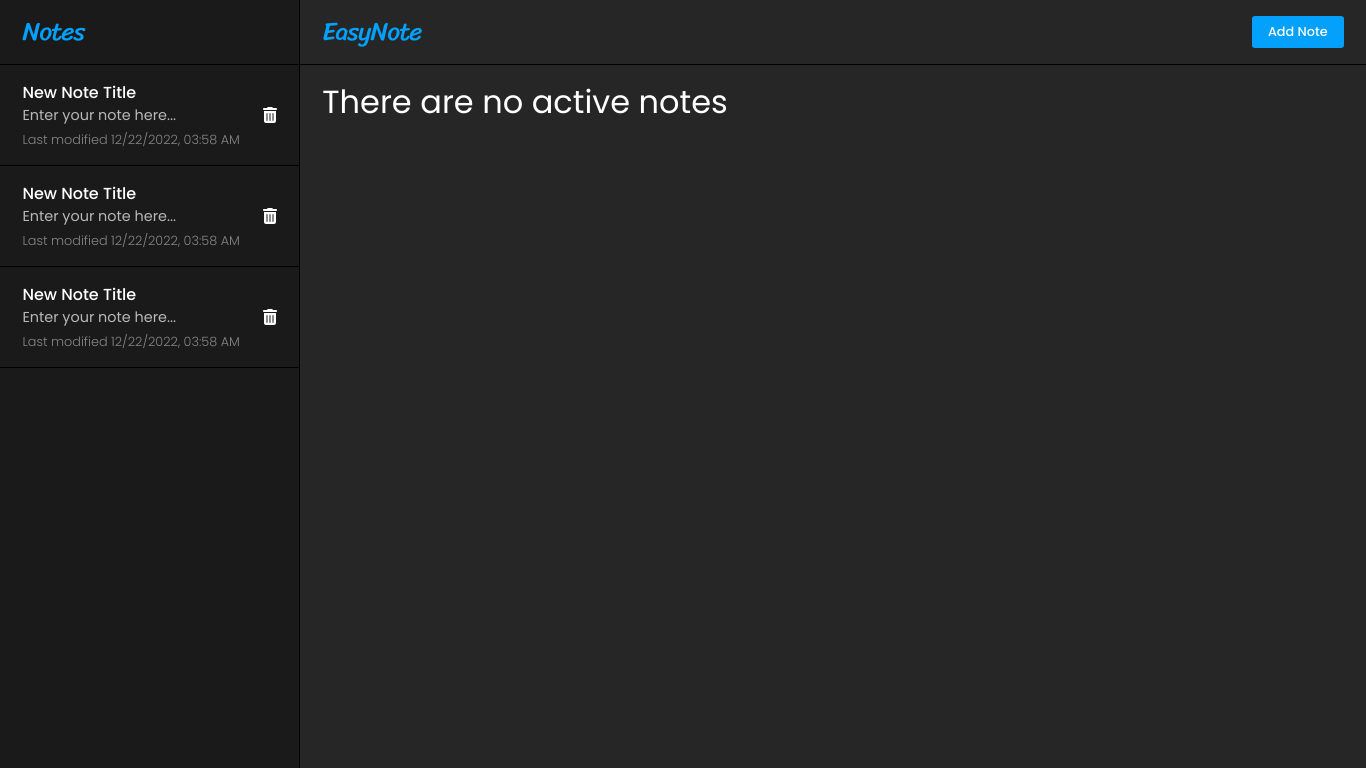
Test: truncate › should truncate title of note in sidebar
This screenshot has width=1366, height=768.
Click the button "Add Note" at coordinates (1298, 32), box [1252,16,1344,48]
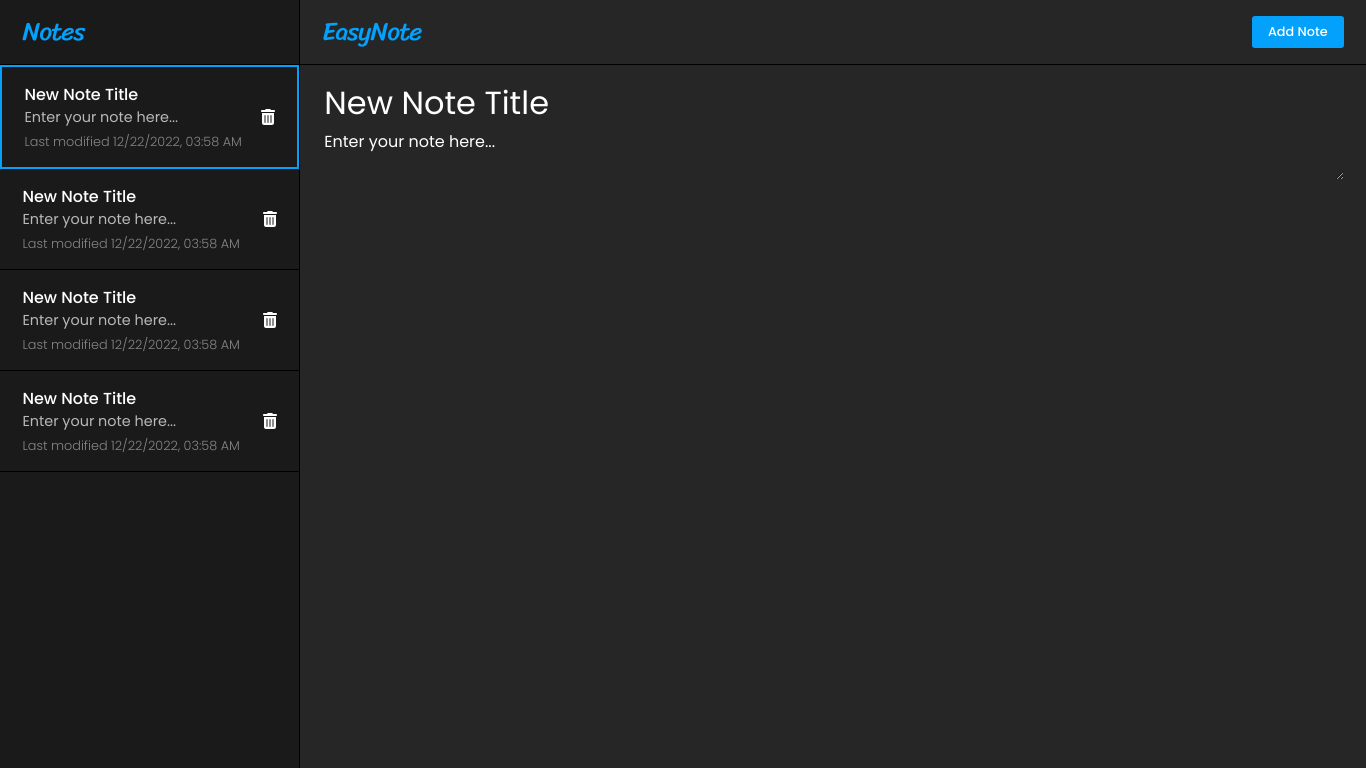
Replace the text in the field with "List of things to do Today" at coordinates (833, 103), box [322,78,1344,128]
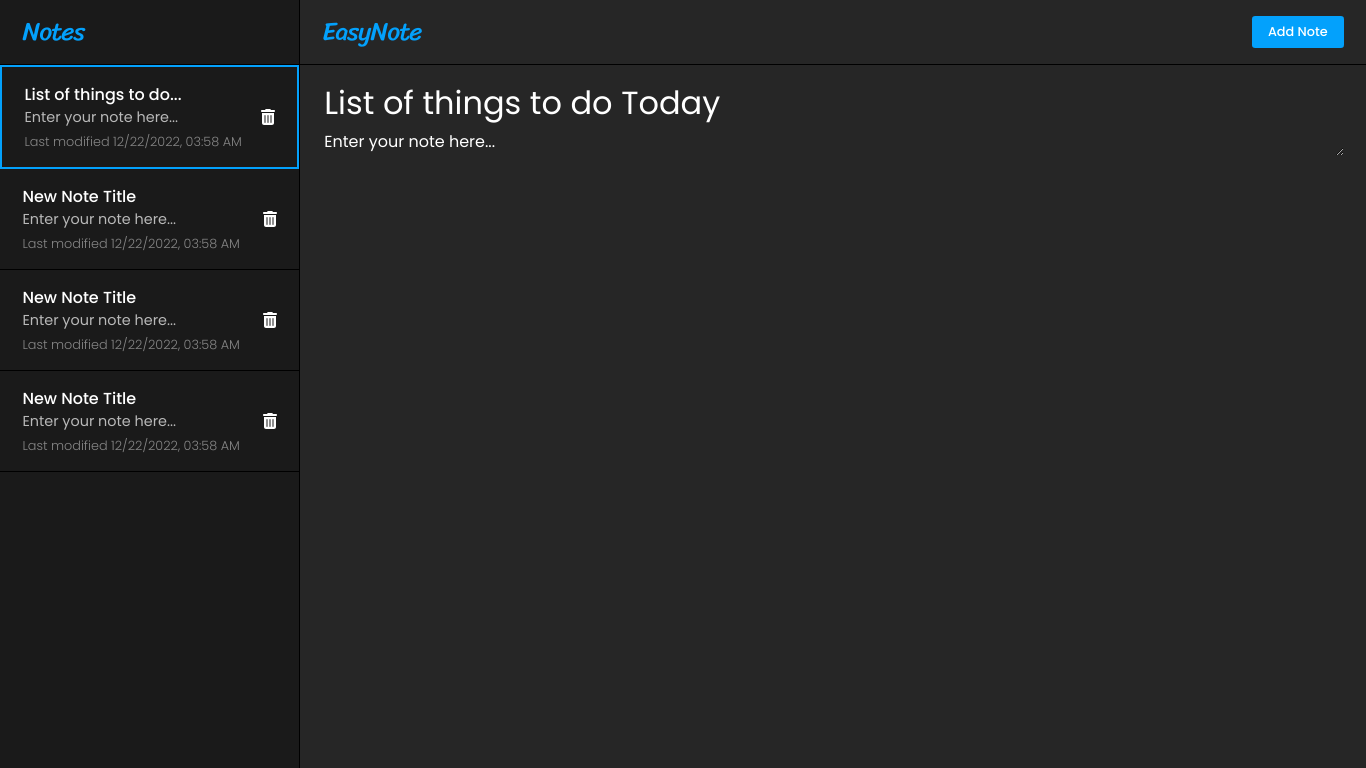
Expected: the text "List of things to do..." is shown, [24,83,182,106]
